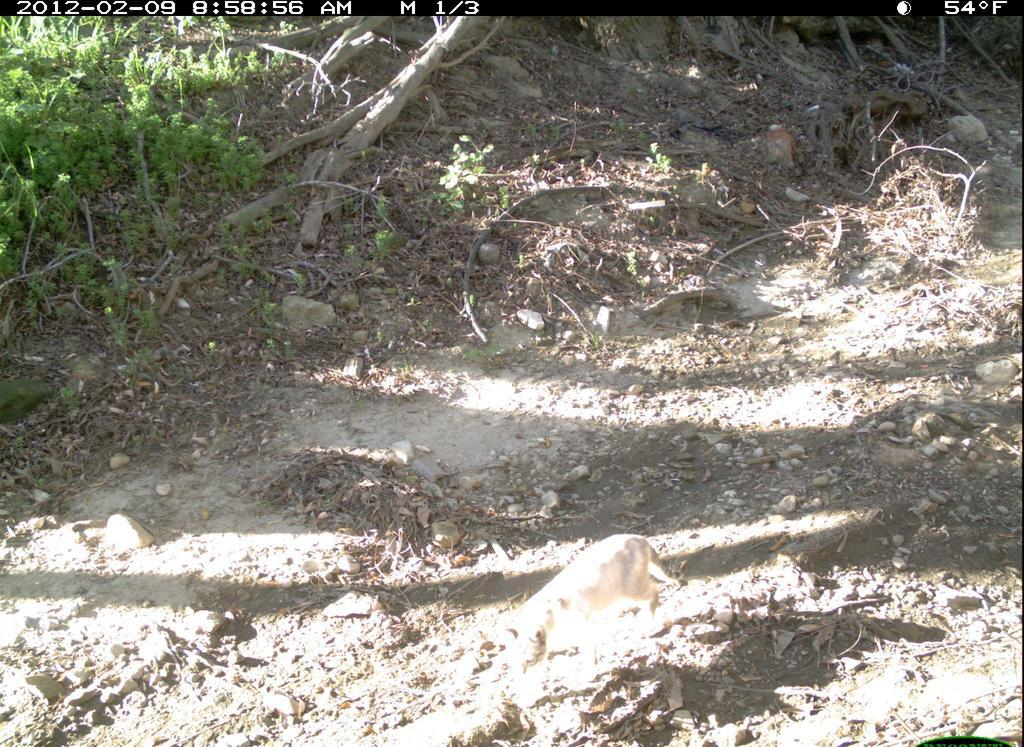cat: (490, 530, 700, 685)
